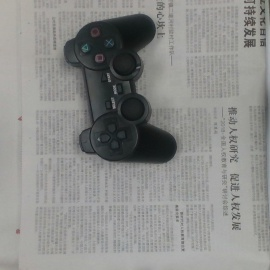remote: (65, 12, 177, 163)
